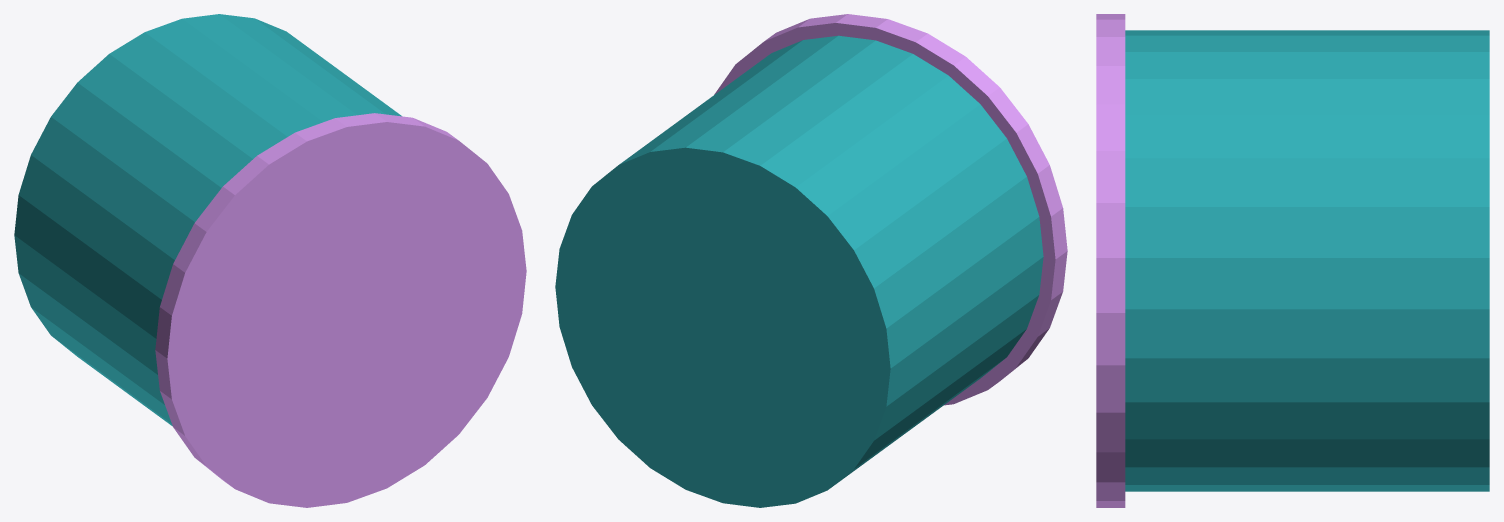
Rendered from paint-can.glb.
3 views of the same model, side by side, from view 1: azimuth 30°, elevation 25°; view 2: azimuth 150°, elevation 25°; view 3: azimuth 270°, elevation 25° (orthographic). The views are drawn at different scales.
Parts seen in each view (by area): view 1: world; view 2: world; view 3: world.
Part boxes in pixels (x1,y1,x2,y2): world: (14,14,526,507); world: (555,14,1067,507); world: (1096,14,1489,507).
Size of the model in its own units: 0.6 by 0.6 by 0.4775.
